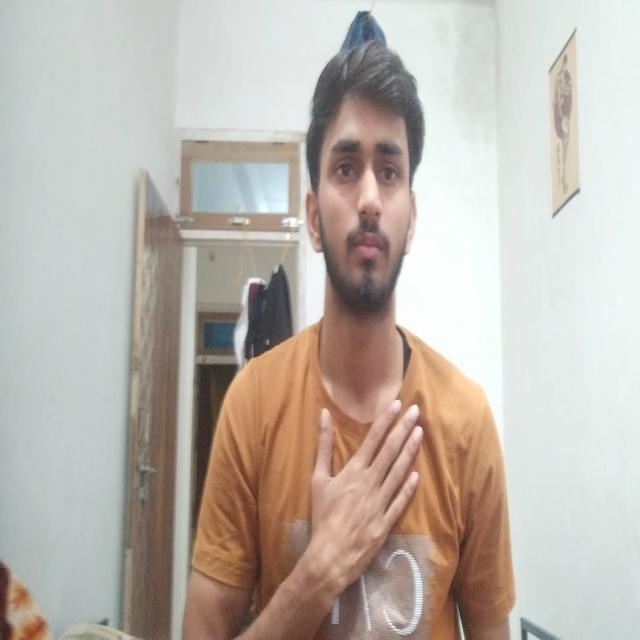Please: (293, 366, 466, 593)
